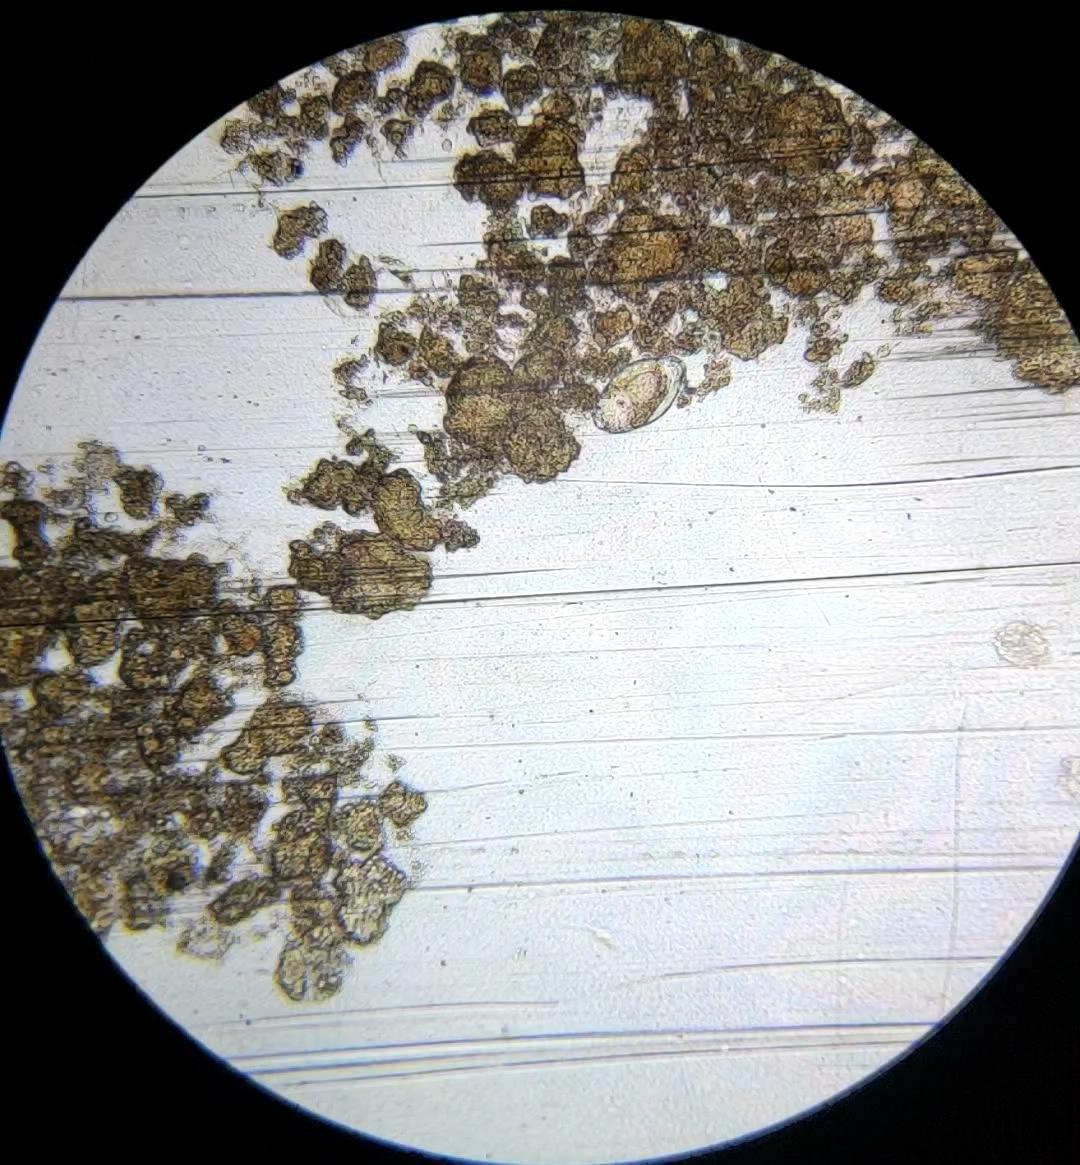Do: (593, 351, 685, 433)
